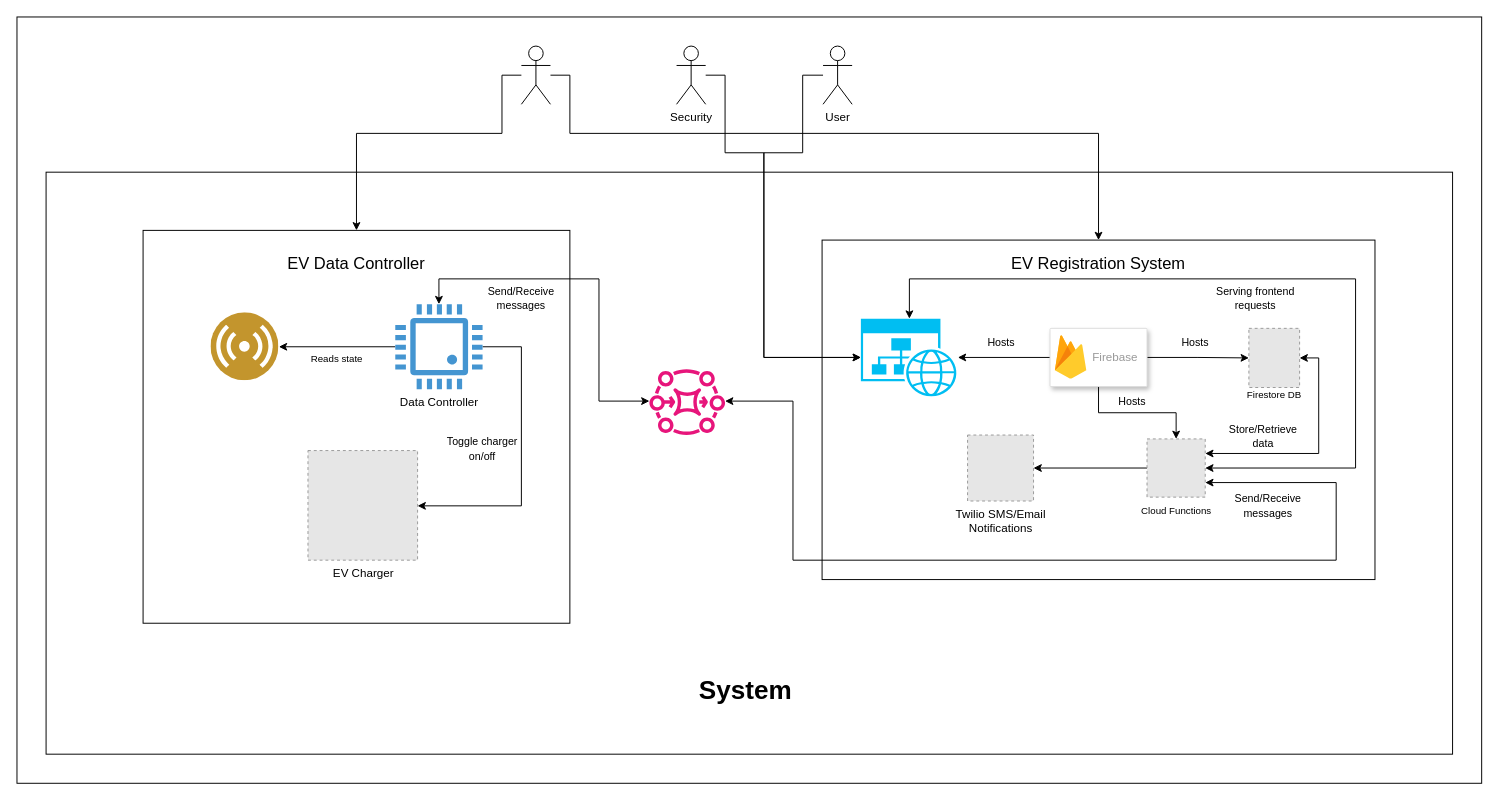
Some shapes in this 1499 by 800 pixel diagram are drawn without their labels. Grey dashed boxes stand in for pictures. Here are the shapes that lost their labels. From the top down, the centre of each, then its label:
At point 535,74: "Admin".
At point 244,346: "IR Sensor".
At point 908,357: "UI for creating, viewing, and managing bookings (React)".
At point 687,401: "HiveMQ Broker".
